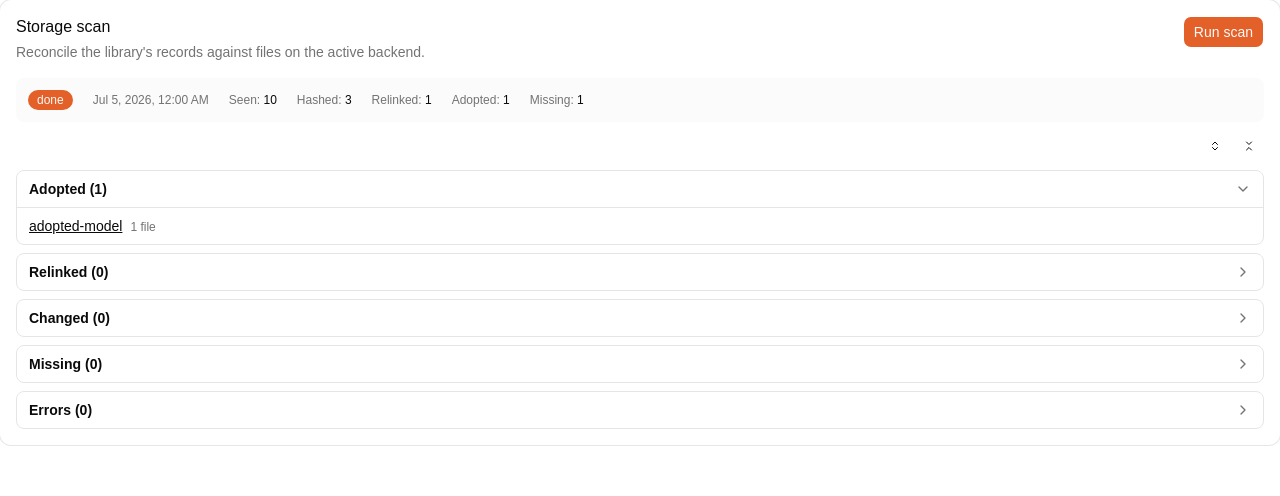
Test: ScanReport › opens non-empty sections and closes empty sections by default, revealing an empty section's copy once expanded
Expected: the link "adopted-model" is shown, [29,218,122,234]
Expected: the text "No errors during the last scan." is not shown
Click the button "Errors (0)" at (50, 410), box [17,392,1263,428]
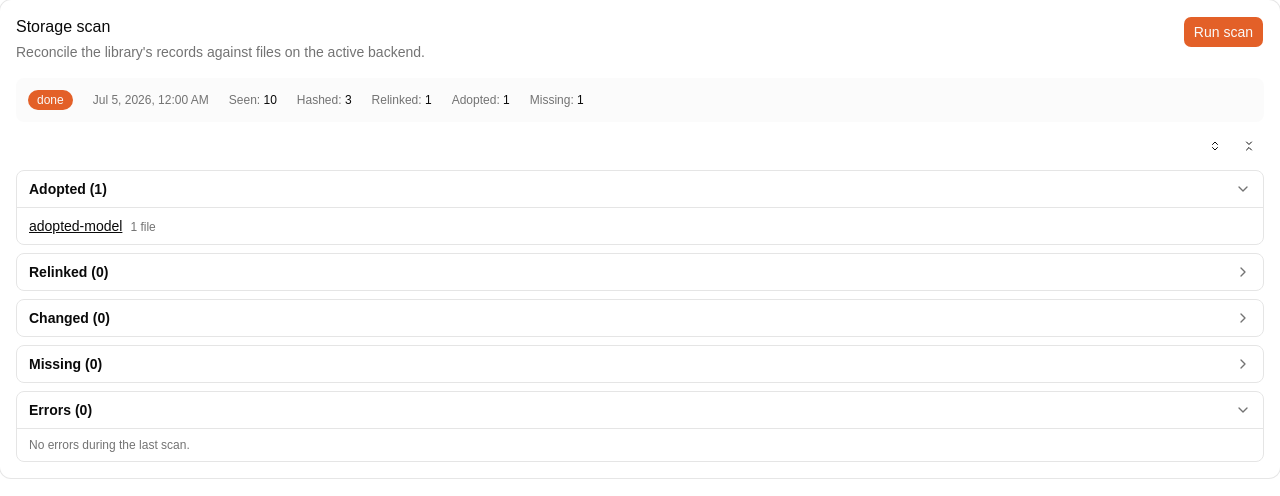
Expected: the button "Errors (0)" is expanded, [17,392,1263,428]
Expected: the text "No errors during the last scan." is shown, [29,438,190,452]
